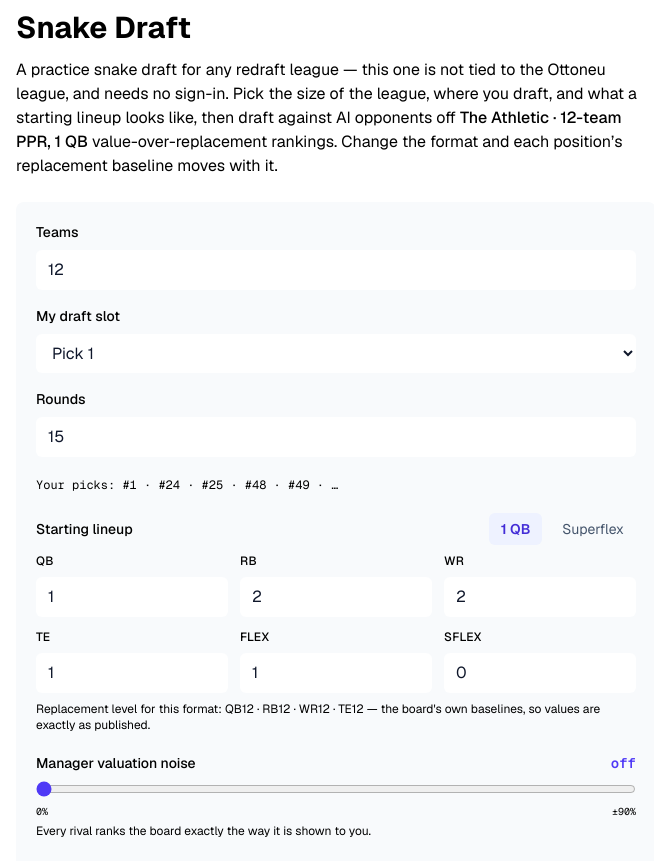
SnakeDraftClient › reports replacement level and moves it when superflex is selected
The width and height of the screenshot is (654, 861).
Expected: the text "QB12 · RB12 · WR12 · TE12" is shown, [225,701,364,717]
Click the button "Superflex".
click(593, 529)  # box [550,513,636,545]
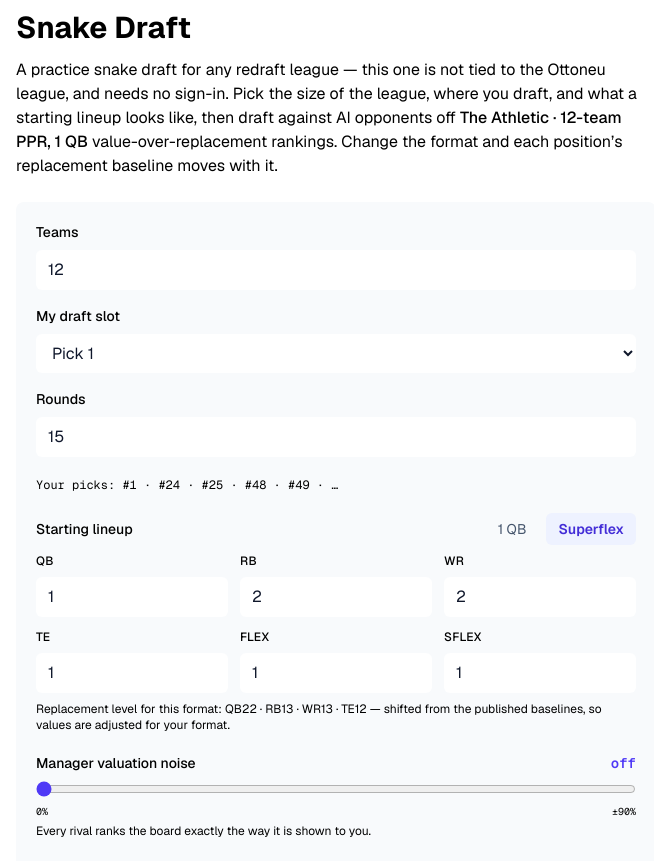
Now the text "QB22 ·" is shown, box [225,701,367,717]
